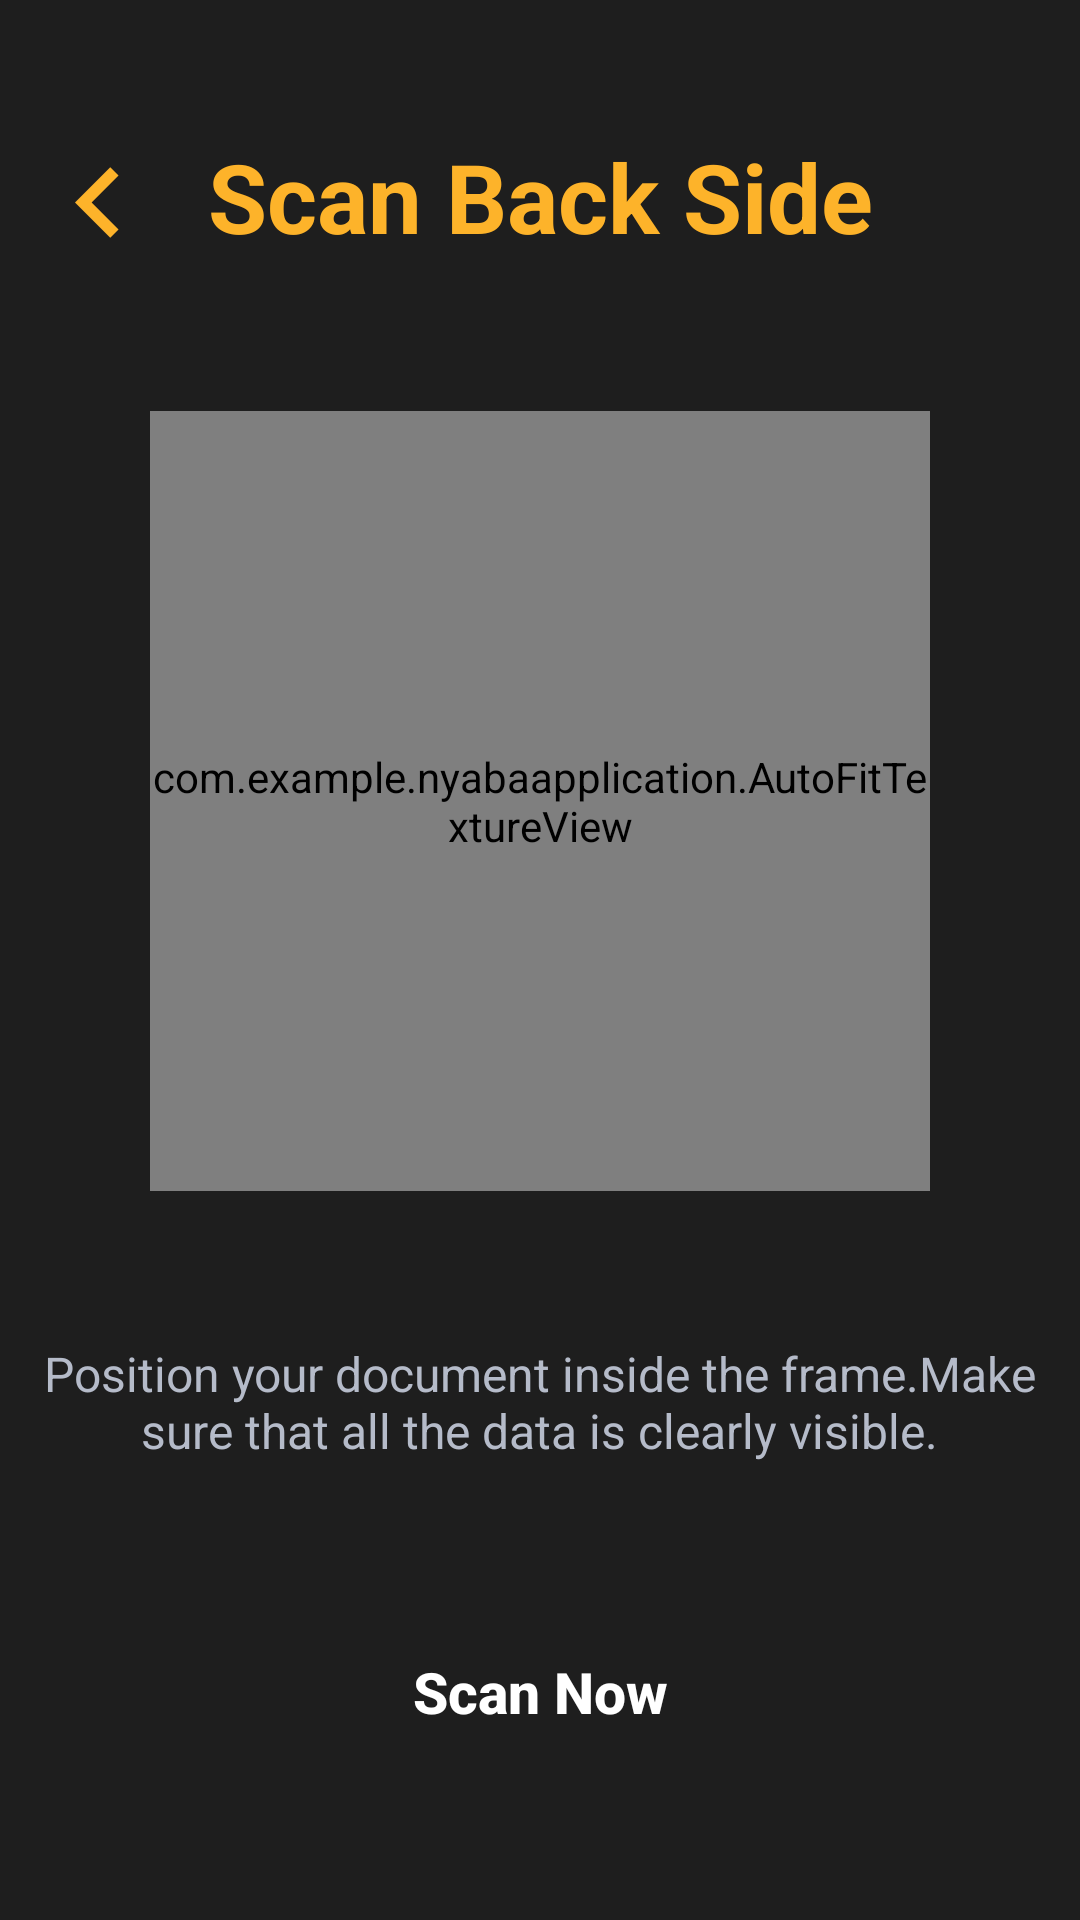

Icon bounding boxes for this 1080px x 1920px phone screenshot, format [x1, y1, x2, y2]:
arrow left: [75, 167, 119, 238]
